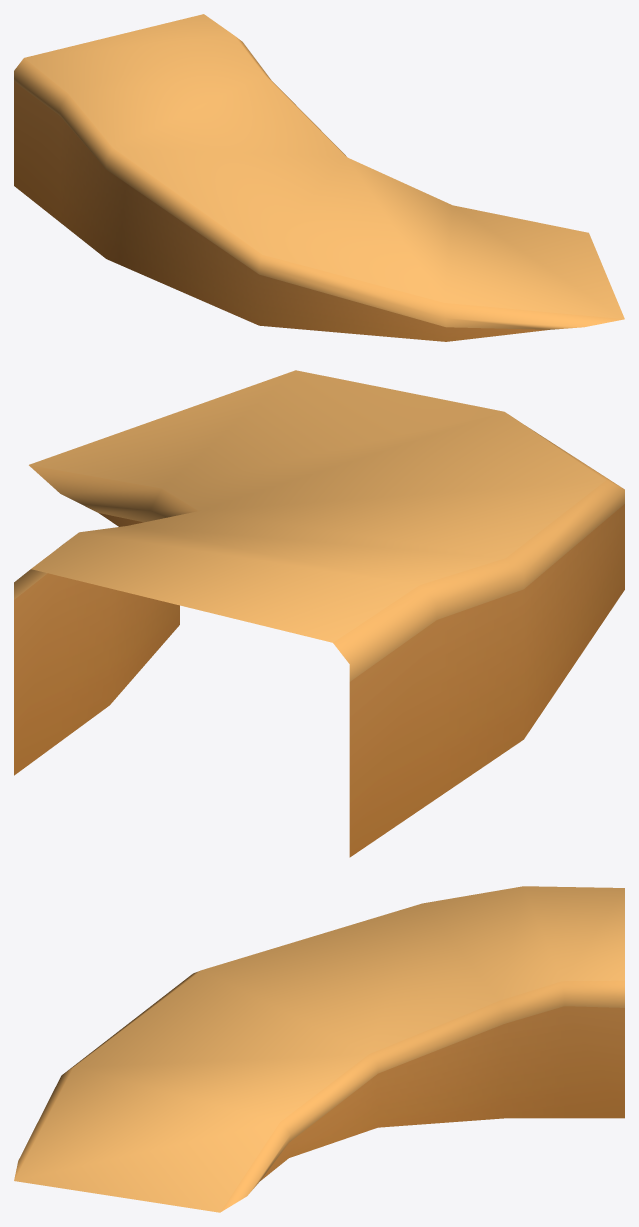
The model's file is Bent Slope 02.FBX.
The picture shows the model from 3 angles, top to bottom: view 1: azimuth 30°, elevation 25°; view 2: azimuth 150°, elevation 25°; view 3: azimuth 270°, elevation 25°; orthographic projection. The views are drawn at different scales.
Visible parts, largest first — view 1: Bent Slope 02; view 2: Bent Slope 02; view 3: Bent Slope 02.
Boxes of the visible parts, x1,y1,x2,y2 form: Bent Slope 02: (14, 14, 624, 341); Bent Slope 02: (14, 370, 624, 857); Bent Slope 02: (14, 886, 624, 1212).
Bounding box in the file's own units: 972 × 300 × 1254.
1 material, 1 textured.
